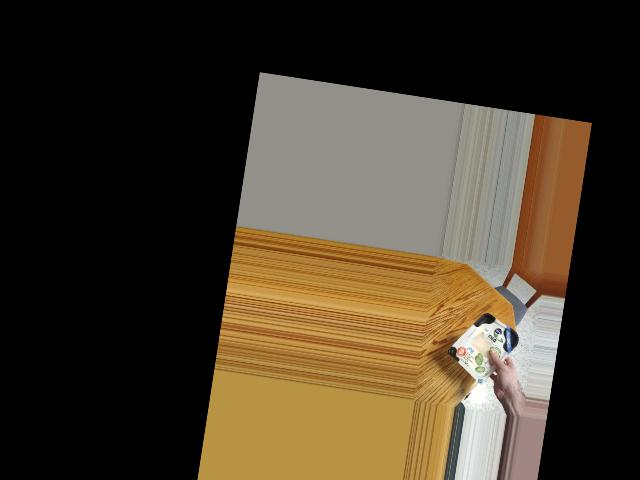cheese: (449, 311, 525, 377)
